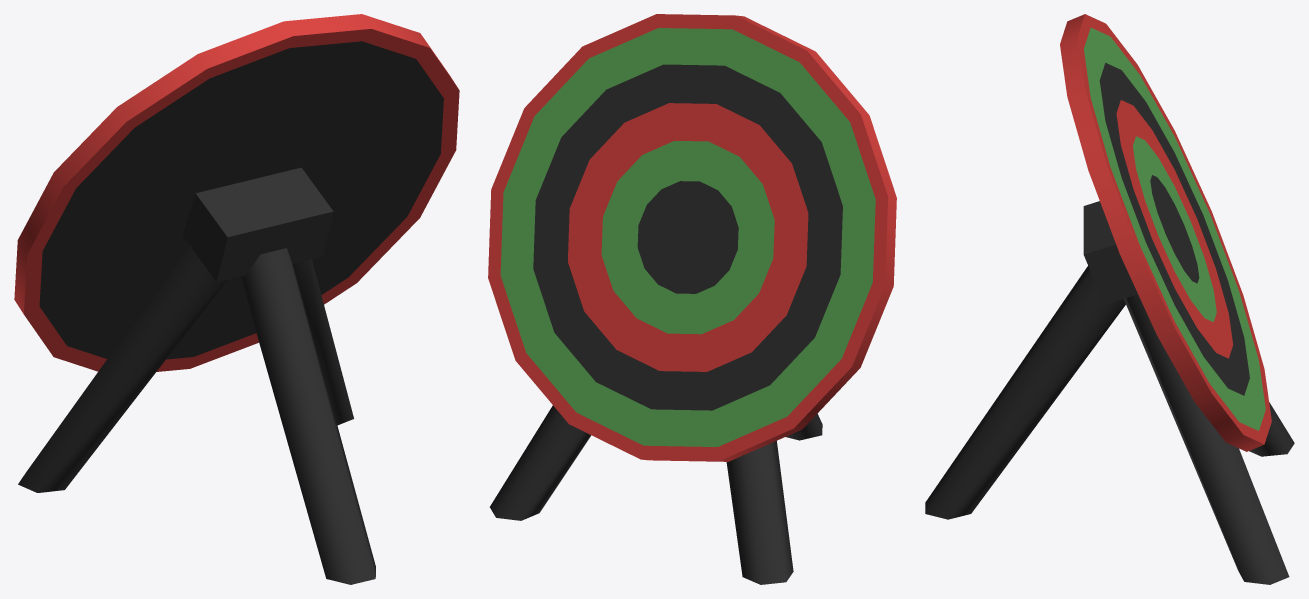
The model's file is BowTarget_01.fbx.
3 renders of one model, left to right at view 1: azimuth 30°, elevation 25°; view 2: azimuth 150°, elevation 25°; view 3: azimuth 270°, elevation 25°, orthographic. The views are drawn at different scales.
Visible parts, largest first — view 1: BowTarget_01; view 2: BowTarget_01; view 3: BowTarget_01.
Boxes of the visible parts, x1,y1,x2,y2 form: BowTarget_01: (14,14,459,584); BowTarget_01: (488,14,896,584); BowTarget_01: (925,14,1294,584).
Bounding box in the file's own units: 0.5267 × 0.5878 × 0.4174.
